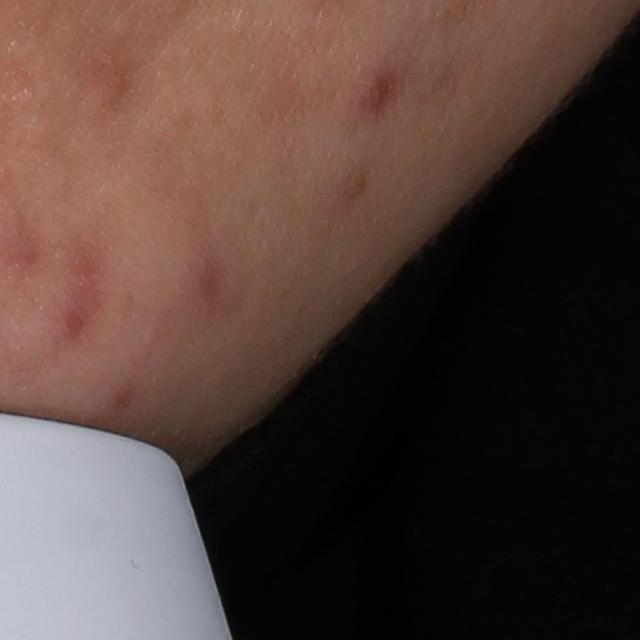papule: (357, 72, 392, 113)
